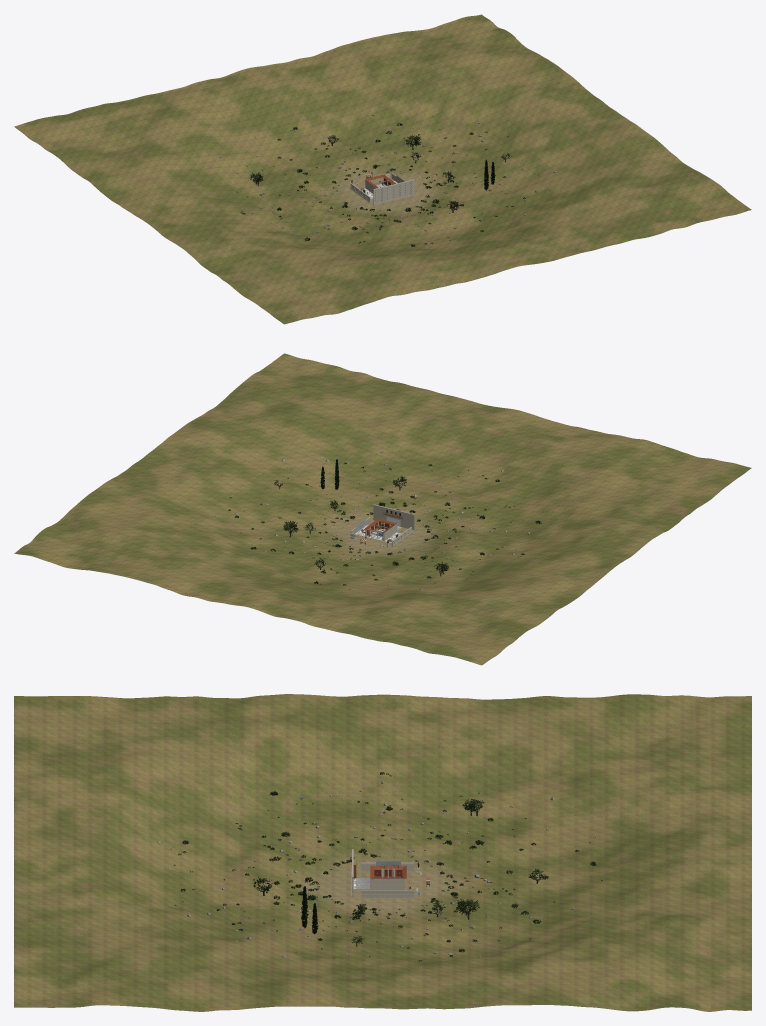
Rendered from efes-yamac-evler-baked.glb.
3 renders of one model, top to bottom at view 1: azimuth 30°, elevation 25°; view 2: azimuth 150°, elevation 25°; view 3: azimuth 270°, elevation 25°, orthographic. The views are drawn at different scales.
Visible parts, largest first — view 1: efes-yamac-evler-terrain, efes-yamac-evler-flora, efes-yamac-evler-near; view 2: efes-yamac-evler-terrain, efes-yamac-evler-flora, efes-yamac-evler-near; view 3: efes-yamac-evler-terrain, efes-yamac-evler-flora, efes-yamac-evler-near.
Boxes of the visible parts, bbox=[...] form: efes-yamac-evler-terrain: bbox=[14, 14, 751, 324]; efes-yamac-evler-flora: bbox=[219, 114, 556, 249]; efes-yamac-evler-near: bbox=[350, 146, 414, 204]; efes-yamac-evler-terrain: bbox=[14, 353, 751, 665]; efes-yamac-evler-flora: bbox=[215, 450, 541, 592]; efes-yamac-evler-near: bbox=[350, 488, 414, 547]; efes-yamac-evler-terrain: bbox=[14, 694, 751, 1011]; efes-yamac-evler-flora: bbox=[157, 772, 602, 961]; efes-yamac-evler-near: bbox=[351, 826, 430, 897].
Size of the model in its own units: 243 by 20.47 by 243.
24 materials, 16 textured.
